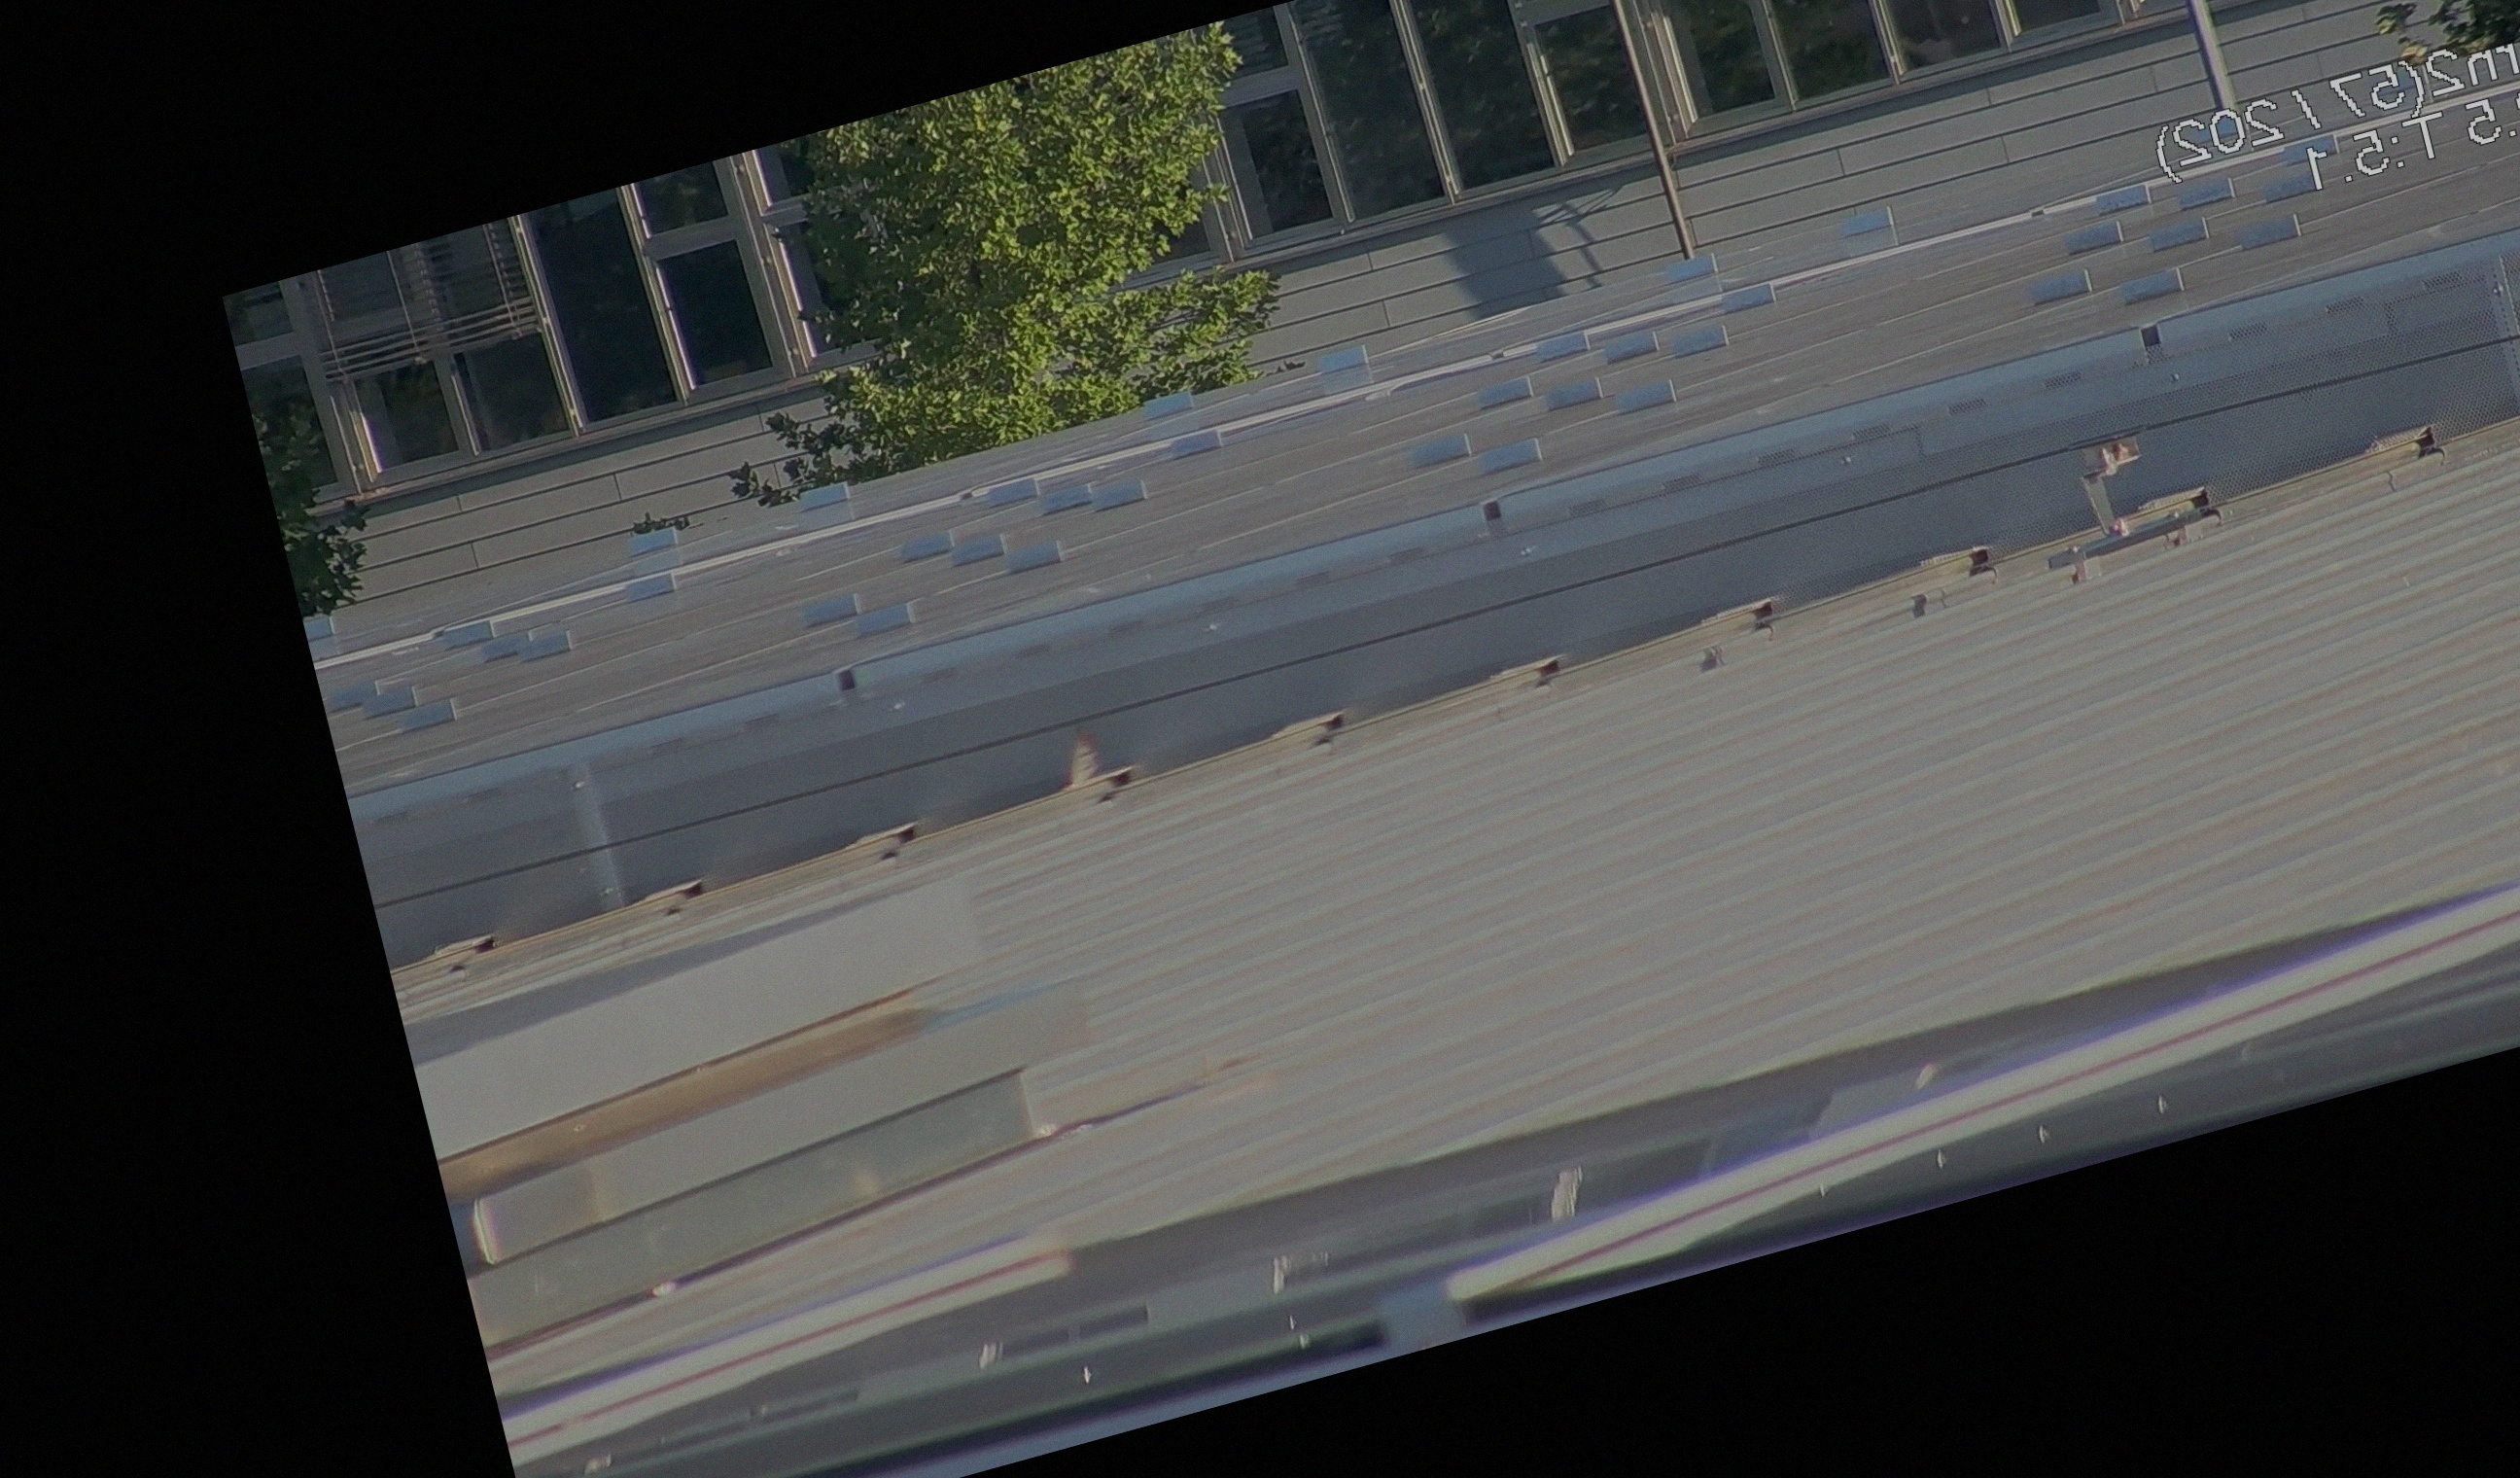Other: (1034, 707, 1136, 820)
